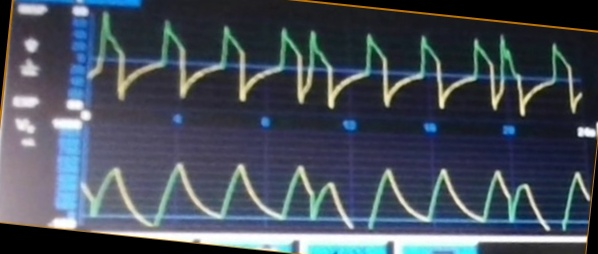Double_Triggering Flow: (94, 12, 576, 115)
Double_Triggering Volume: (86, 153, 578, 230)
